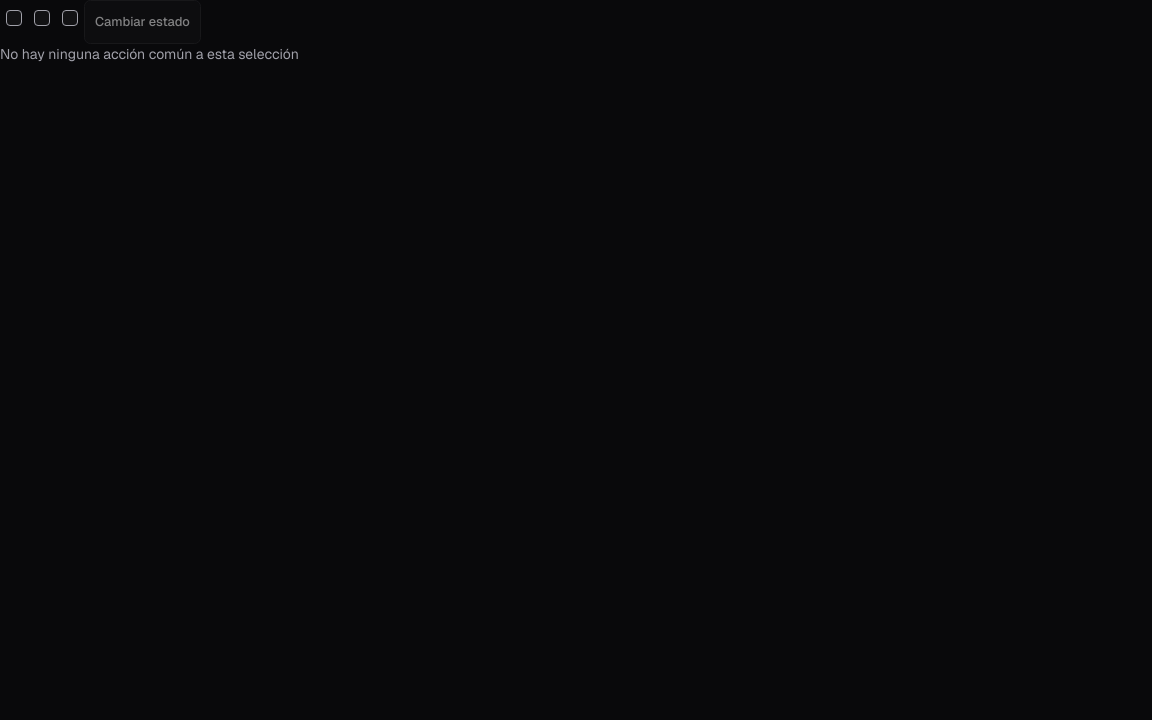
Test: OrderBulkStatusActions — the run ends by emptying the bar, so it has to say what it did › says it in the singular for one order
Step 1. Click the checkbox named "Seleccionar orden o1" → click(14, 18), box [6,10,22,26]
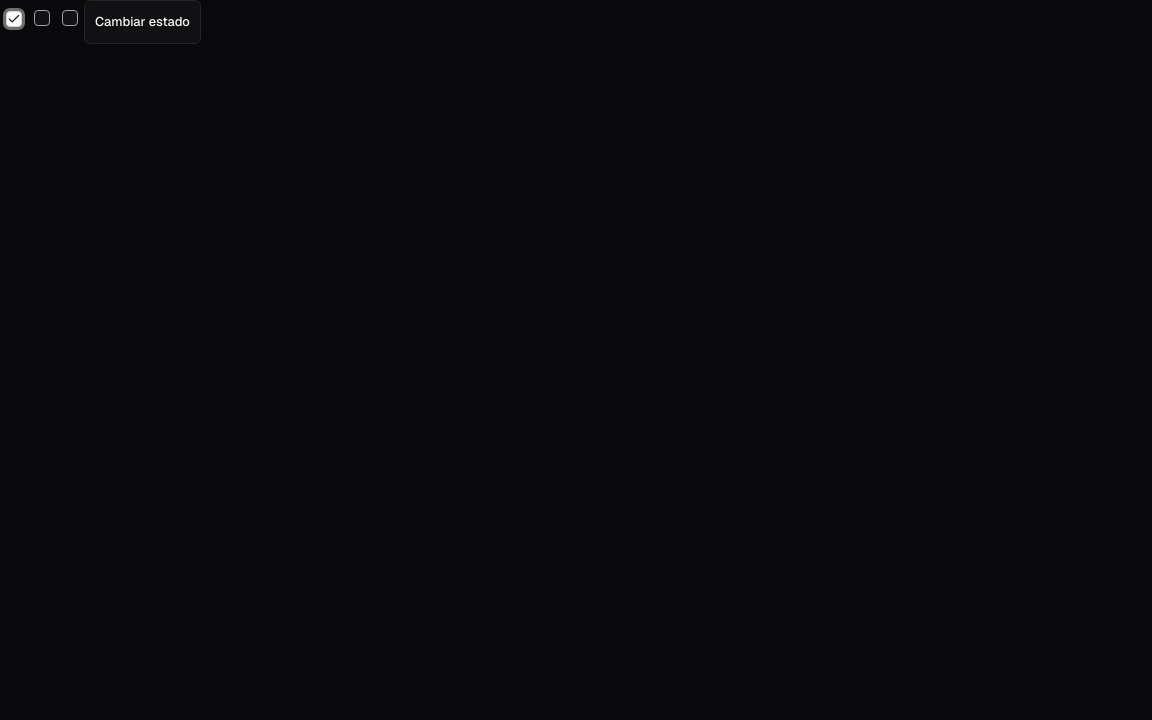
Step 2. Click the button "Cambiar estado" → click(142, 22), box [84,0,201,44]
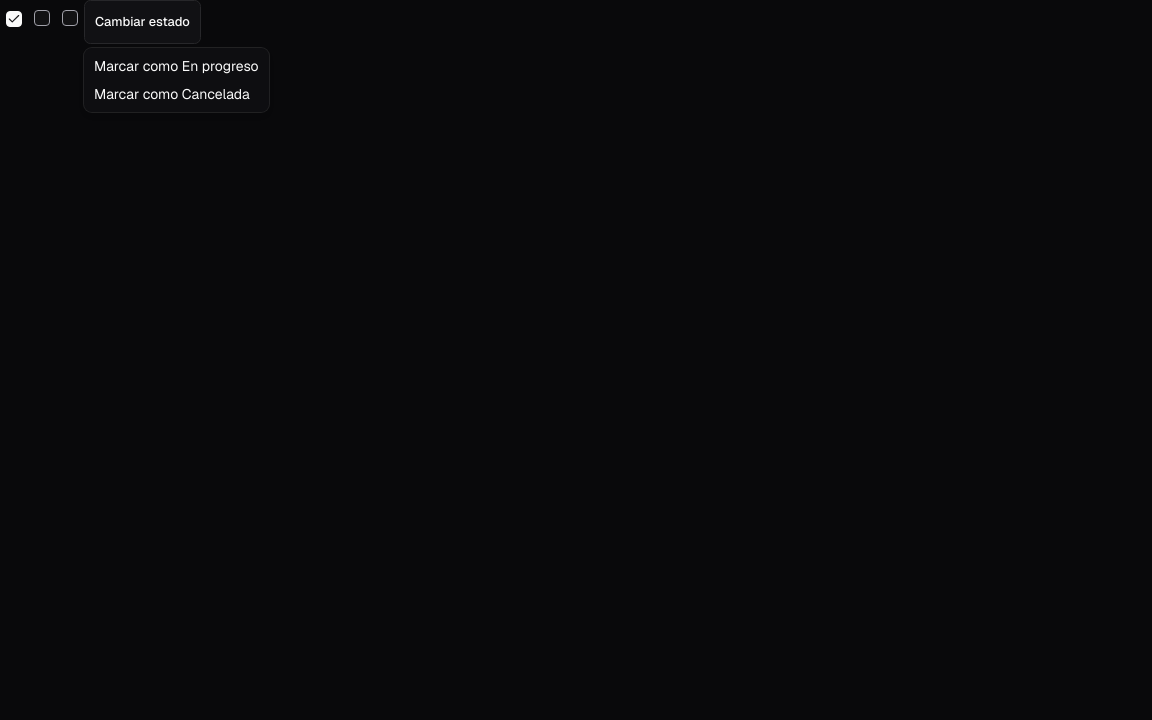
Check: the menu is shown, box [84,48,269,112]
Step 3. Click the menu item "Marcar como En progreso" → click(176, 66), box [88,52,265,80]
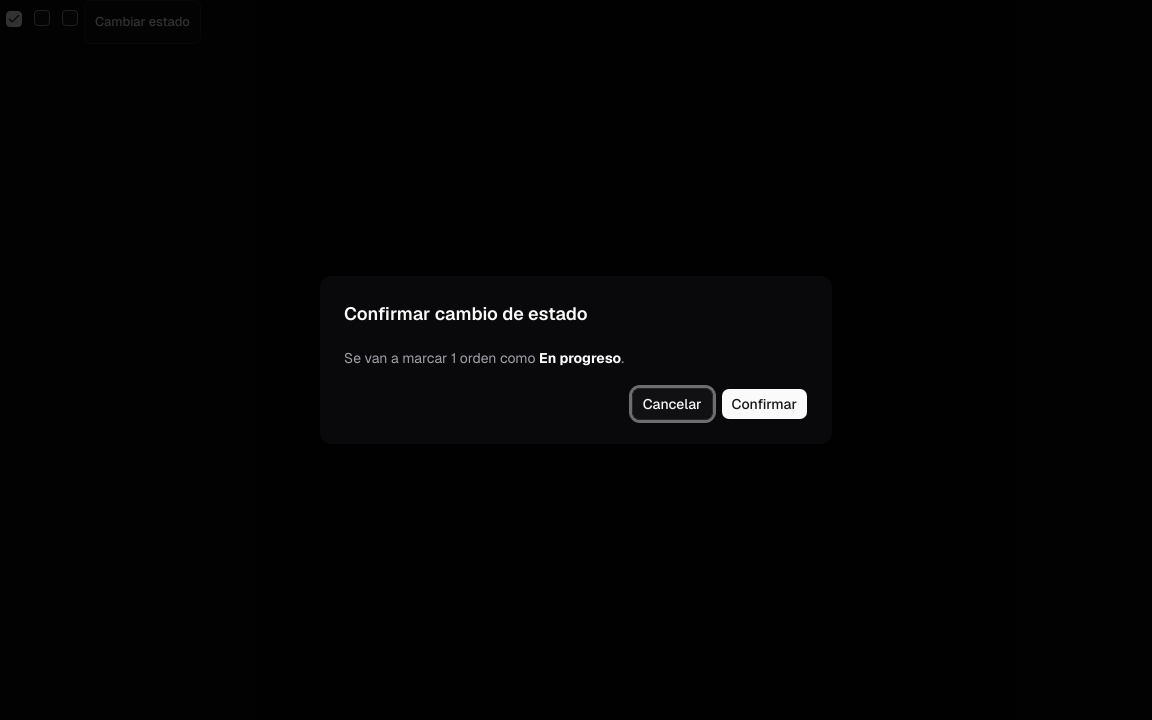
Step 4. Click the button "Confirmar" → click(764, 404), box [721,388,808,420]
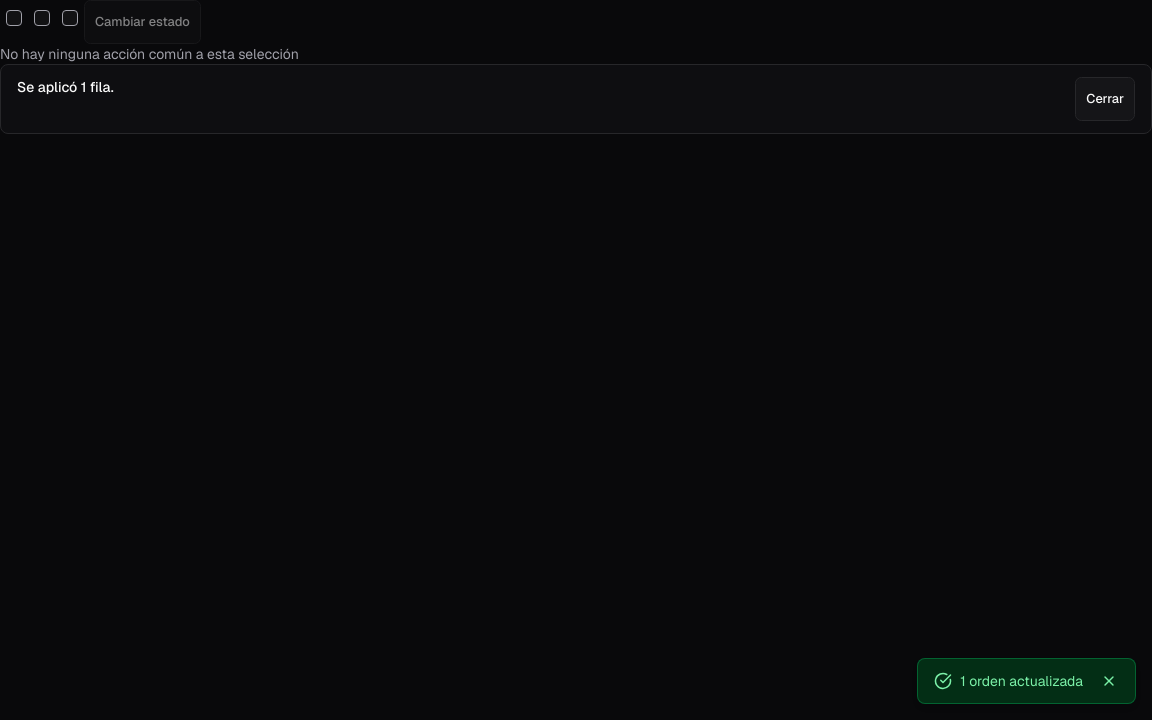
Check: the text "1 orden actualizada" is shown, box [960,671,1083,691]
